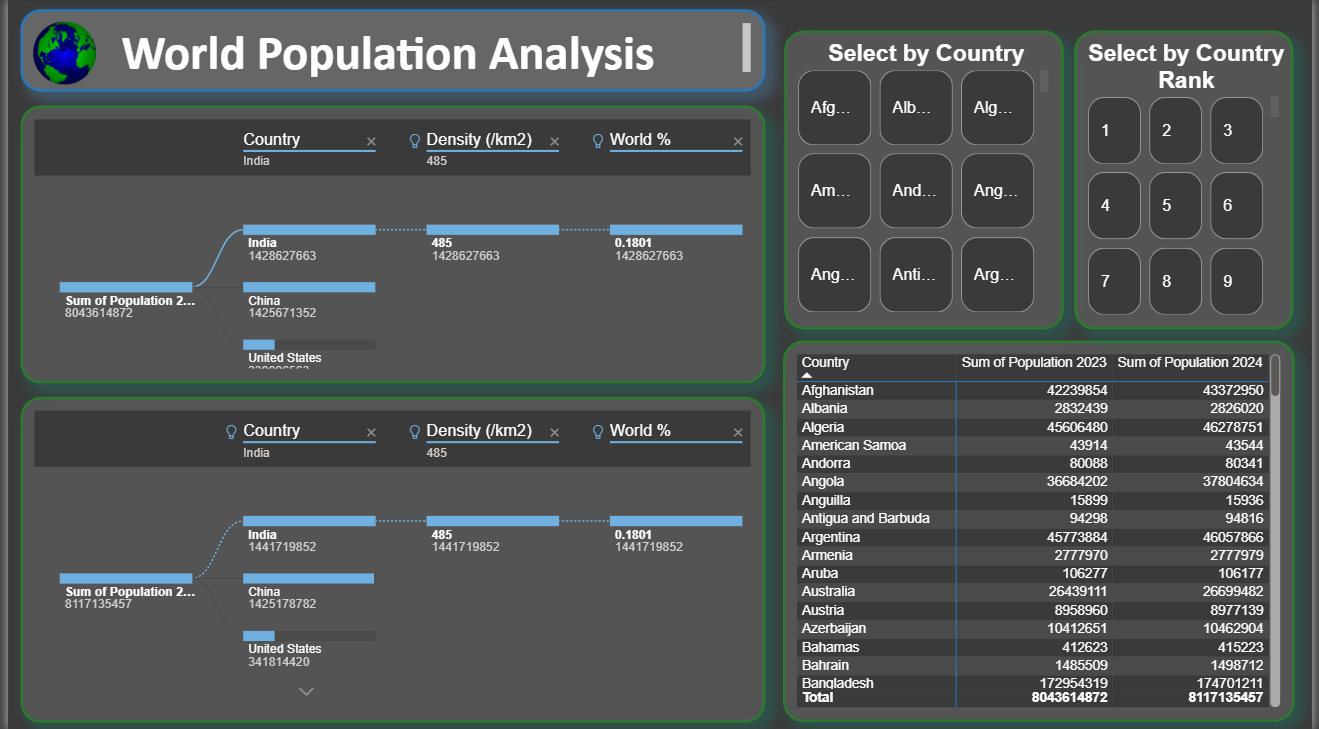

The page's visual inventory and layout, read from the dashboard file:
{"tool":"powerbi","page":{"name":"Page 2","canvas":[1280,720],"ordinal":1},"visuals":[{"type":"decompositionTreeVisual","title":"Countries  Density and World%  of 2023","fields":{"ExplainBy":["World Population by country 2024.Country","World Population by country 2024.Density (/km2)","World Population by country 2024.World %"],"Analyze":["Sum(World Population by country 2024.Population 2023)"]},"box":[12.3,105.7,731.4,273.1],"z":0},{"type":"decompositionTreeVisual","title":"Countries Density and World% of 2024","fields":{"Analyze":["Sum(World Population by country 2024.Population 2024)"],"ExplainBy":["World Population by country 2024.Country","World Population by country 2024.Density (/km2)","World Population by country 2024.World %"]},"box":[12.3,391.1,731.4,319.7],"z":1000},{"type":"advancedSlicerVisual","title":"Select by Country","fields":{"Values":["World Population by country 2024.Country"]},"box":[761.6,31.6,274.4,293.7],"z":2000},{"type":"pivotTable","fields":{"Rows":["World Population by country 2024.Country"],"Values":["Sum(World Population by country 2024.Population 2023)","Sum(World Population by country 2024.Population 2024)"]},"box":[760.2,336.2,502.2,374.6],"z":3000},{"type":"textbox","box":[12.3,11,731.4,81],"z":4000},{"type":"image","box":[16.5,17.8,79.6,71.4],"z":5000},{"type":"advancedSlicerVisual","title":"Select by Country Rank","fields":{"Values":["World Population by country 2024.World Rank"]},"box":[1047,31.6,215.4,293.7],"z":6000}]}

Visuals, with their boxes in screenshot pixels (x1, y1, x2, y2), scaled from the page's 1280x720 canvas onto the 1319x729 screenshot:
"Countries  Density and World%  of 2023" decompositionTreeVisual: 13, 107, 766, 384
"Countries Density and World% of 2024" decompositionTreeVisual: 13, 396, 766, 720
"Select by Country" advancedSlicerVisual: 785, 32, 1068, 329
pivotTable - World Population by country 2024.Country x Sum(World Population by country 2024.Population 2023): 783, 340, 1301, 720
textbox: 13, 11, 766, 93
image: 17, 18, 99, 90
"Select by Country Rank" advancedSlicerVisual: 1079, 32, 1301, 329
